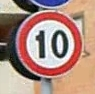limite 10: (13, 10, 81, 76)
